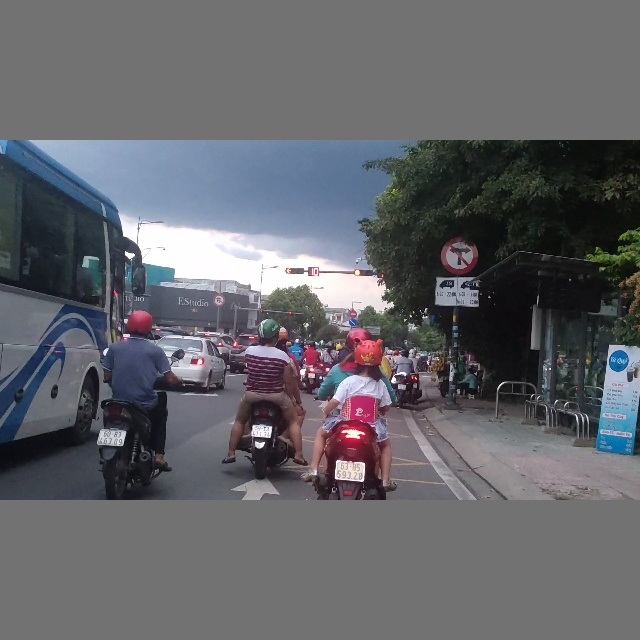P.102: (349, 310, 357, 318)
P.124a*: (213, 294, 225, 306)
P.137: (440, 236, 478, 275)
R.302a: (348, 318, 357, 327)
S.505a*Xe tai: (434, 276, 480, 307)
